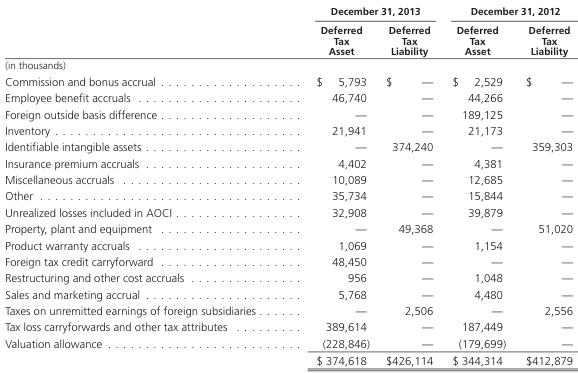table: (4, 4, 572, 366)
table column: (4, 4, 285, 366), (285, 4, 377, 366), (441, 4, 514, 366), (377, 4, 441, 366), (514, 4, 572, 366)
table column header: (4, 4, 572, 72)
table row: (4, 20, 572, 72), (4, 72, 572, 89), (4, 105, 572, 122), (4, 154, 572, 171), (4, 203, 572, 220), (4, 236, 572, 253), (4, 285, 572, 302), (4, 334, 572, 351), (4, 4, 572, 20), (4, 89, 572, 105), (4, 122, 572, 138), (4, 138, 572, 154), (4, 171, 572, 187), (4, 187, 572, 203), (4, 220, 572, 236), (4, 253, 572, 269), (4, 269, 572, 285), (4, 302, 572, 318), (4, 318, 572, 334), (4, 351, 572, 366)
table spanning cell: (4, 4, 285, 72), (285, 4, 441, 20), (441, 4, 572, 20)
